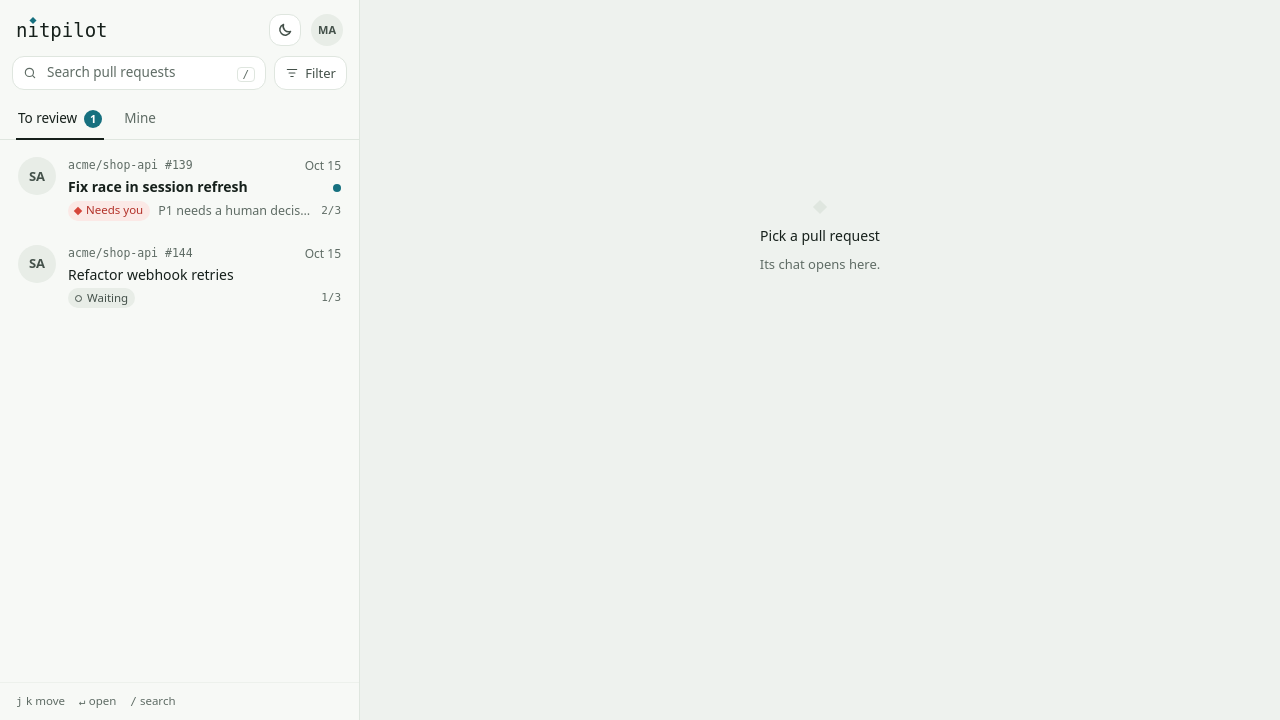
Test case: Inbox (handoff §1) › filters by status, and counts the filters on the button
Click the button "Filter": (311, 73) [274, 56, 347, 90]
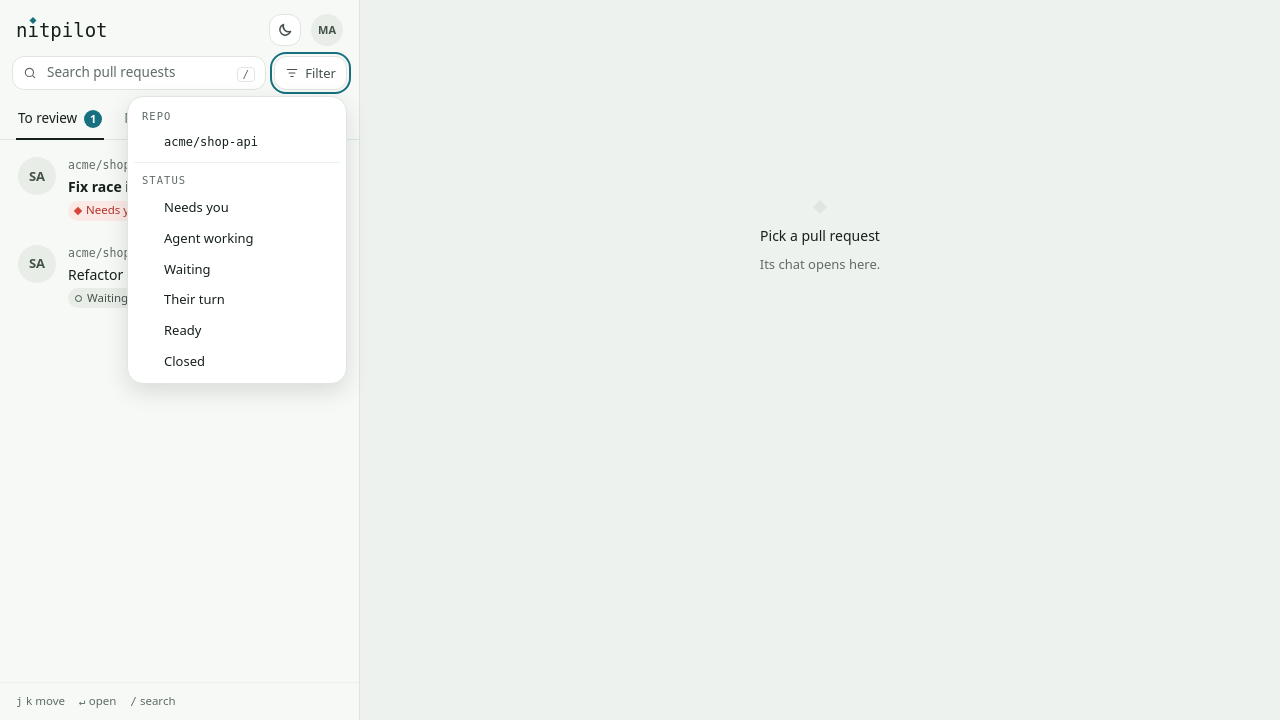
Click the menu item "Waiting": (176, 269) [134, 254, 219, 284]
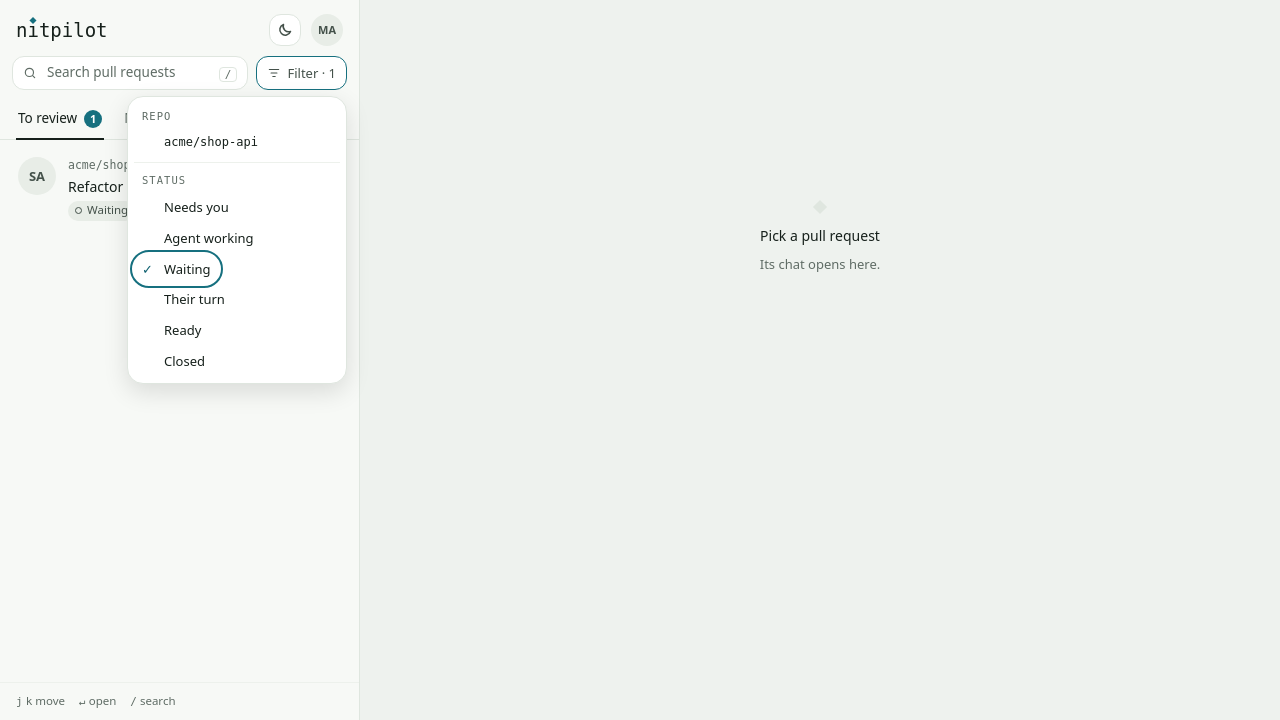
Expected: the button "Filter · 1" is shown, [256, 56, 347, 90]
Press Escape
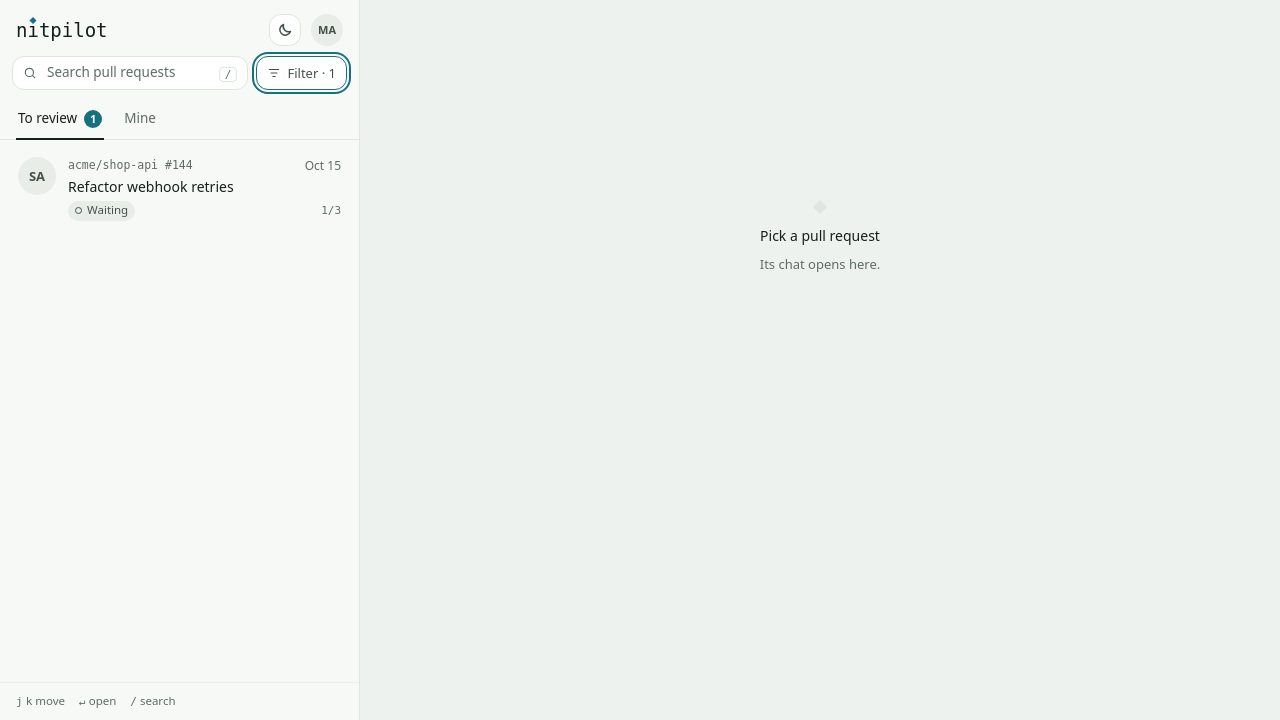
Expected: the menu is gone
